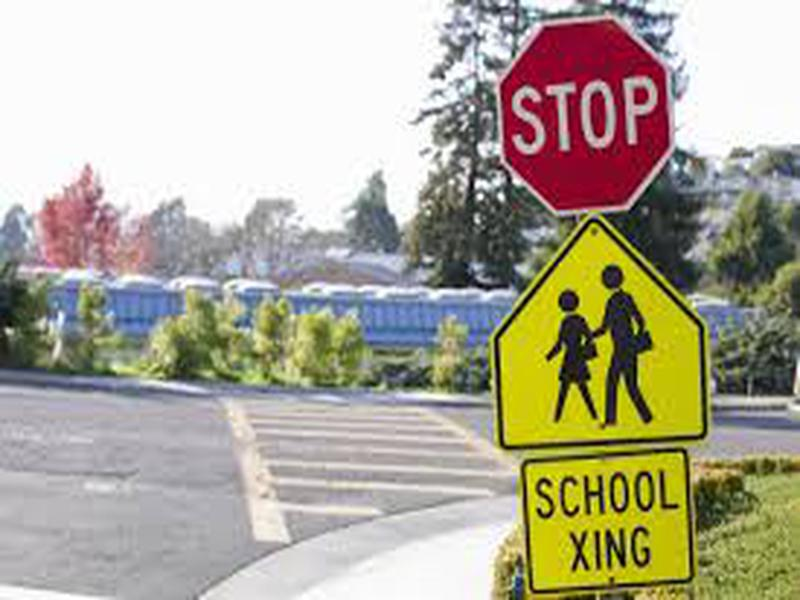slow: (484, 235, 721, 451)
stop: (495, 20, 685, 217)
